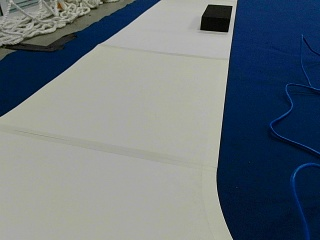block: (200, 4, 234, 31)
